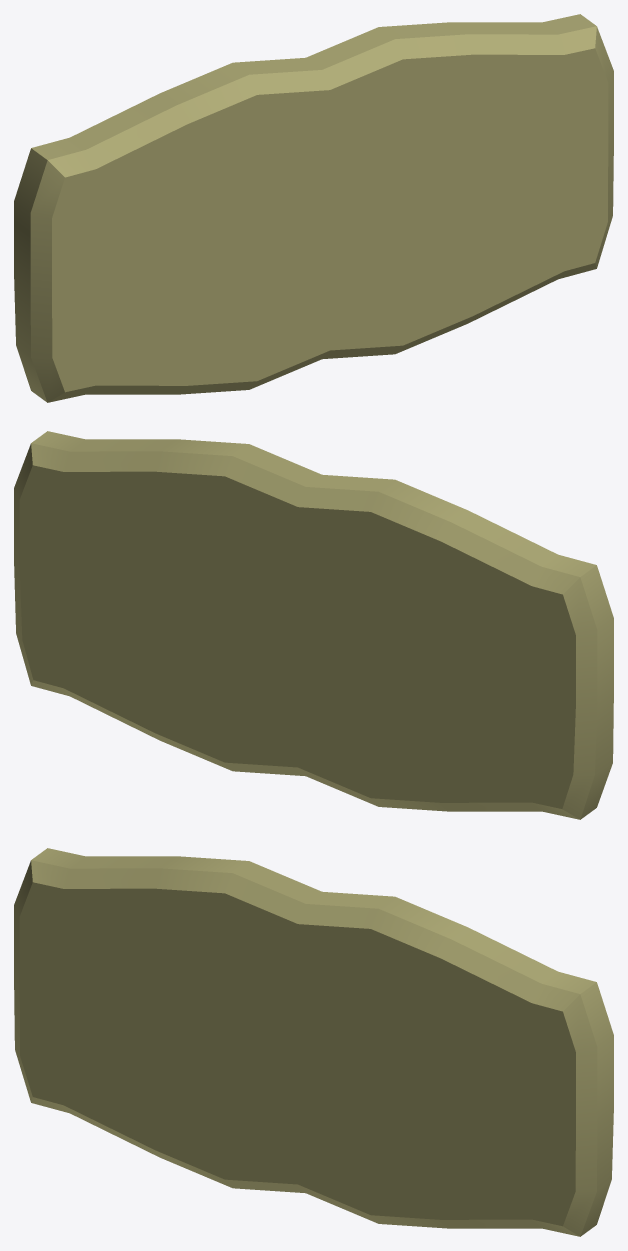
The model's file is plaquewaw.fbx.
The picture shows the model from 3 angles, top to bottom: view 1: azimuth 30°, elevation 25°; view 2: azimuth 150°, elevation 25°; view 3: azimuth 330°, elevation 25°; orthographic projection.
Parts seen in each view (by area): view 1: pCube2; view 2: pCube2; view 3: pCube2.
Part boxes in pixels (box(x1,y1,x2,y2)): pCube2: box(14, 14, 613, 402); pCube2: box(14, 431, 613, 819); pCube2: box(14, 848, 613, 1236).
Size of the model in its own units: 0.9234 by 0.4767 by 0.0884.
